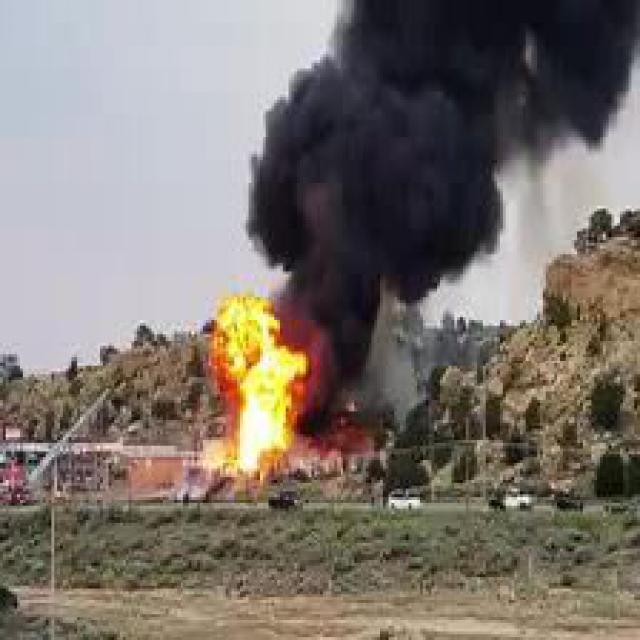fire: (188, 286, 328, 500)
